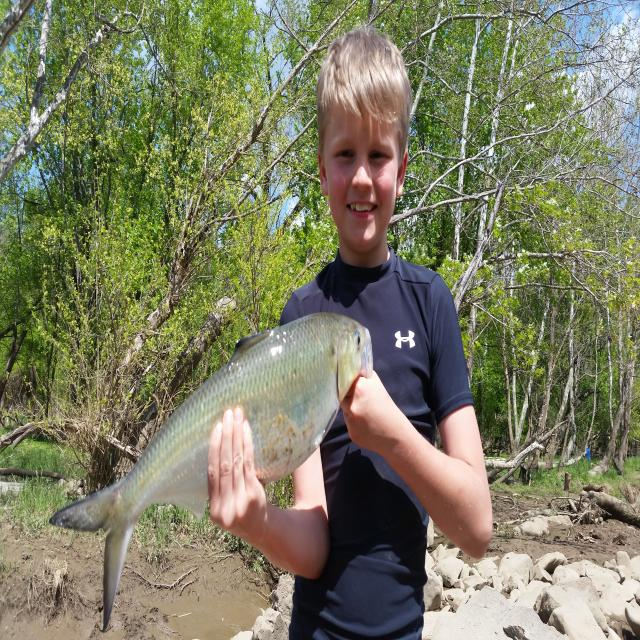Shad - American: (50, 313, 372, 629)
